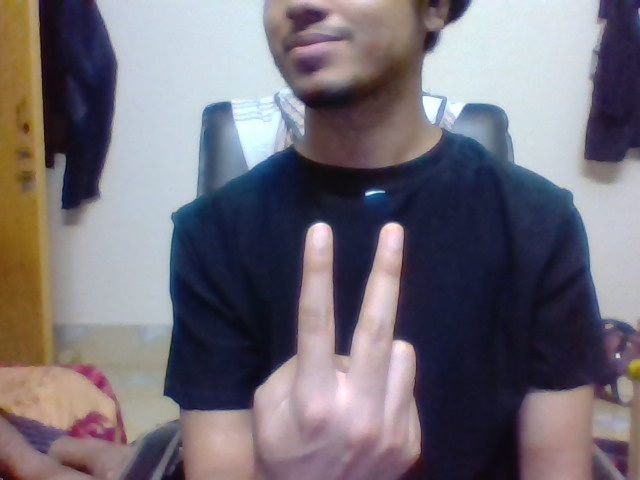V: (296, 217, 406, 369)
